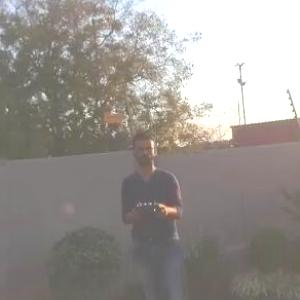follow: (117, 119, 188, 299)
